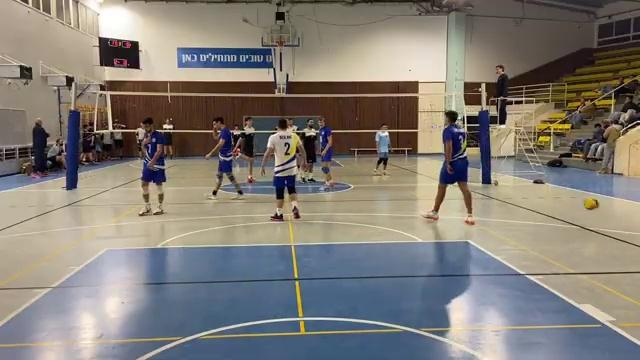ball: (579, 197, 602, 215)
